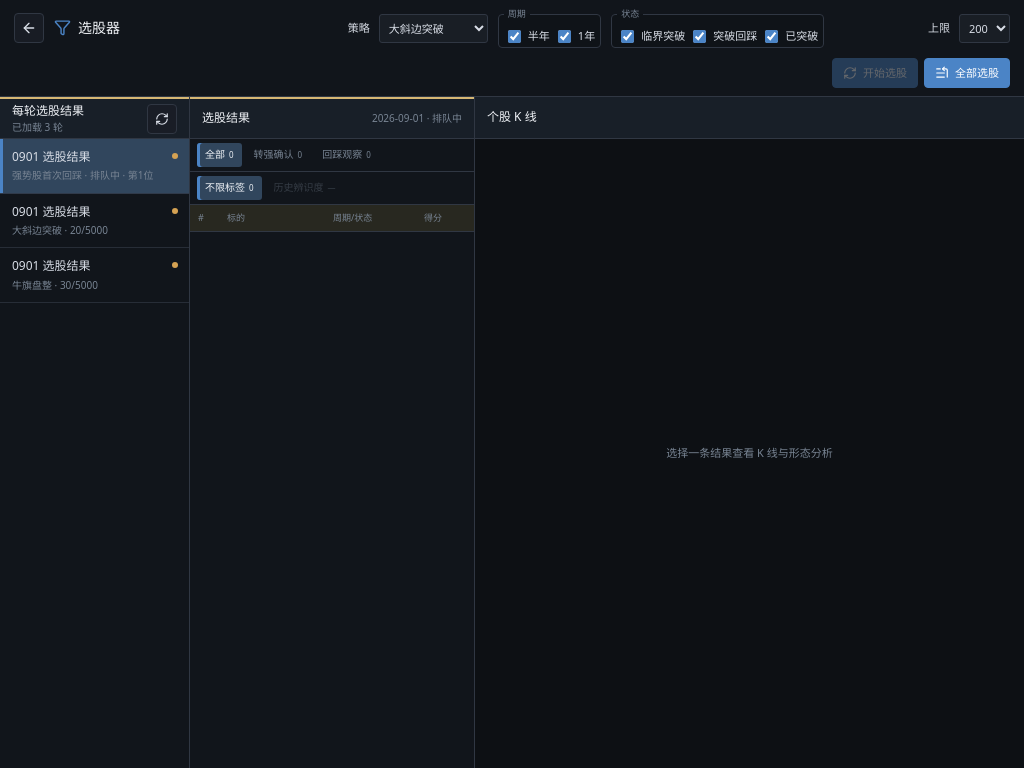
Scenario: ScreenerWorkspace › allows other strategies, prevents duplicates and polls all running and queued tasks
The width and height of the screenshot is (1024, 768).
Expected: the text "强势股首次回踩 · 排队中 · 第1位" is shown, [12, 169, 165, 183]
Expected: the button "开始选股" is disabled, [832, 58, 918, 88]
Select "低位平台回踩" in the dropdown labelled "策略": (433, 28) [379, 14, 488, 42]
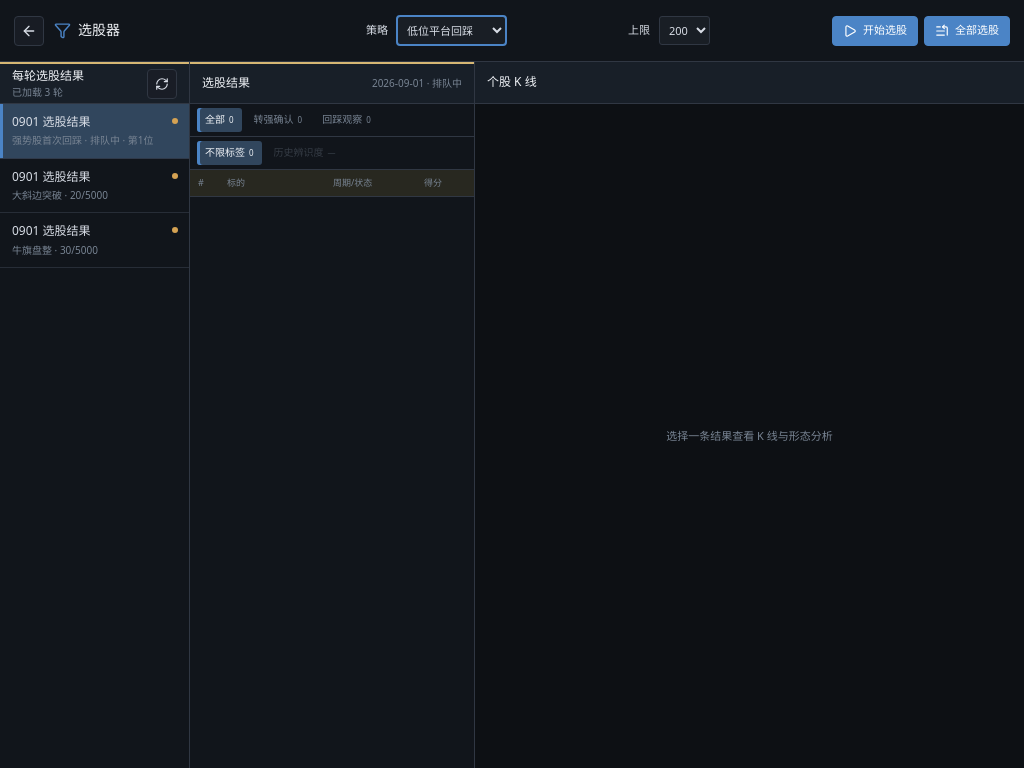
Result: the button "开始选股" is enabled
Click the button "开始选股": click(875, 30) [832, 16, 918, 46]
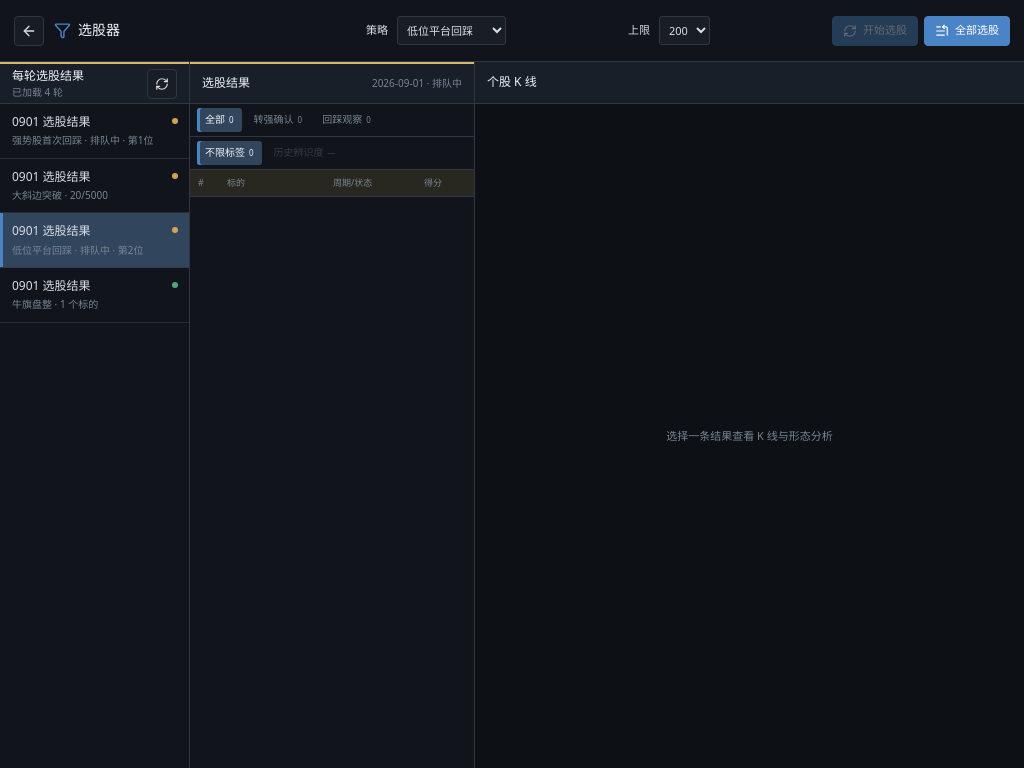
Result: the text "低位平台回踩 · 排队中 · 第2位" is shown at [12, 244, 165, 257]
Result: the button "开始选股" is disabled at [832, 16, 918, 46]
Result: the text "牛旗盘整 · 1 个标的" is shown at [12, 297, 98, 311]
